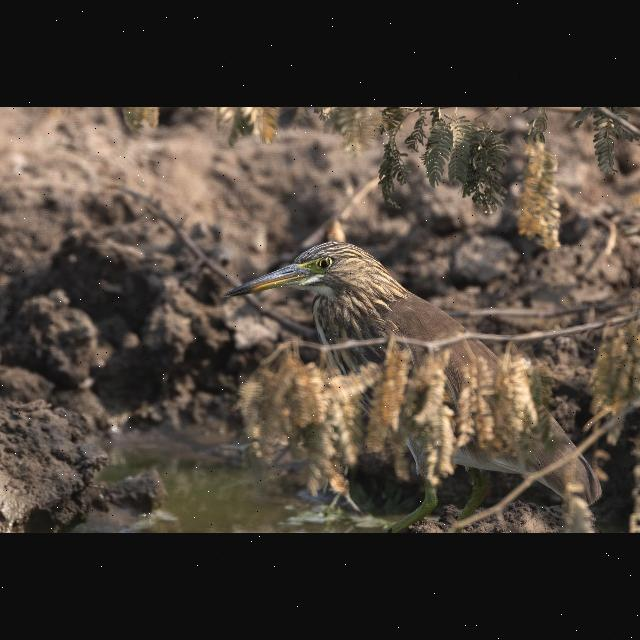heron: (224, 242, 596, 534)
